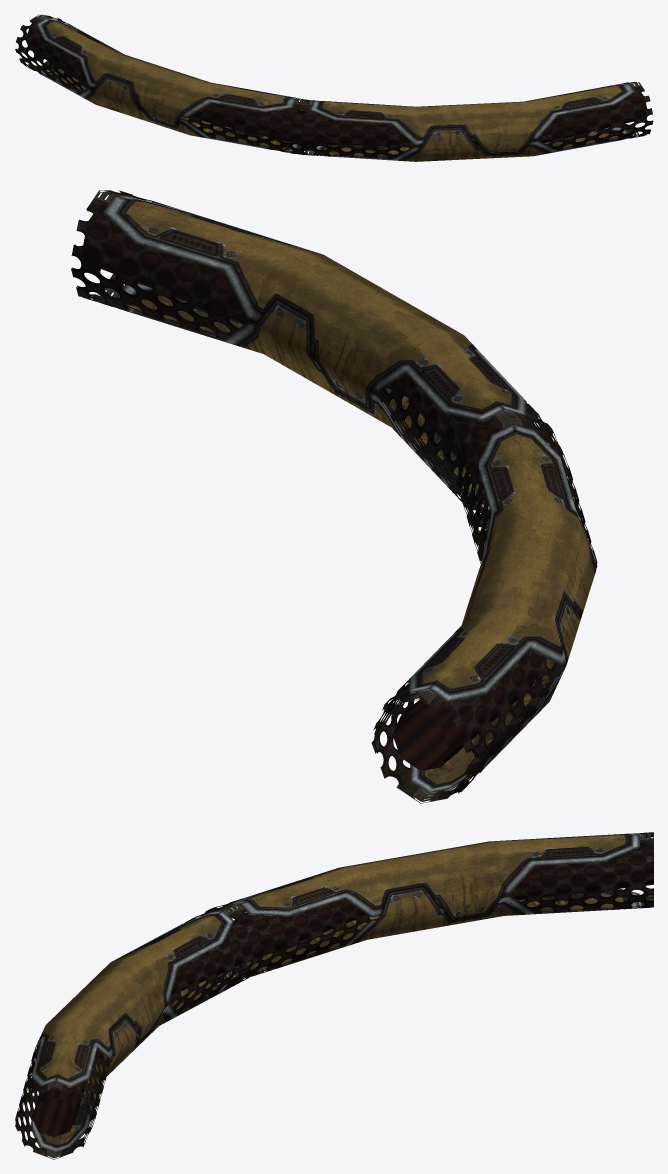
Rendered from fibreoptic_cable_red_left.dae.
3 views of the same model, one above another, from view 1: azimuth 30°, elevation 25°; view 2: azimuth 150°, elevation 25°; view 3: azimuth 270°, elevation 25° (orthographic). The views are drawn at different scales.
Visible parts, largest first — view 1: polySurface5, pCylinder4, polySurface2; view 2: polySurface5, polySurface2, pCylinder4; view 3: polySurface5, polySurface2, pCylinder4.
Boxes of the visible parts, bbox=[...] form: polySurface5: bbox=[15, 14, 653, 161]; pCylinder4: bbox=[25, 28, 646, 144]; polySurface2: bbox=[16, 15, 652, 158]; polySurface5: bbox=[71, 190, 597, 803]; polySurface2: bbox=[72, 192, 588, 801]; pCylinder4: bbox=[83, 208, 540, 770]; polySurface5: bbox=[15, 832, 653, 1159]; polySurface2: bbox=[16, 833, 653, 1158]; pCylinder4: bbox=[32, 844, 653, 1137].
Size of the model in its own units: 1.07 by 0.1337 by 1.07.
